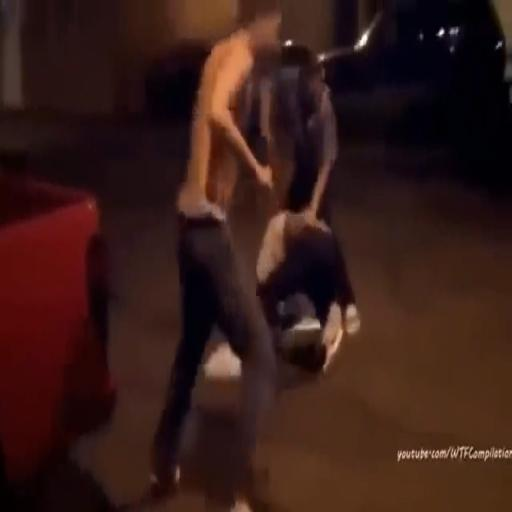violencia: (136, 0, 382, 504)
